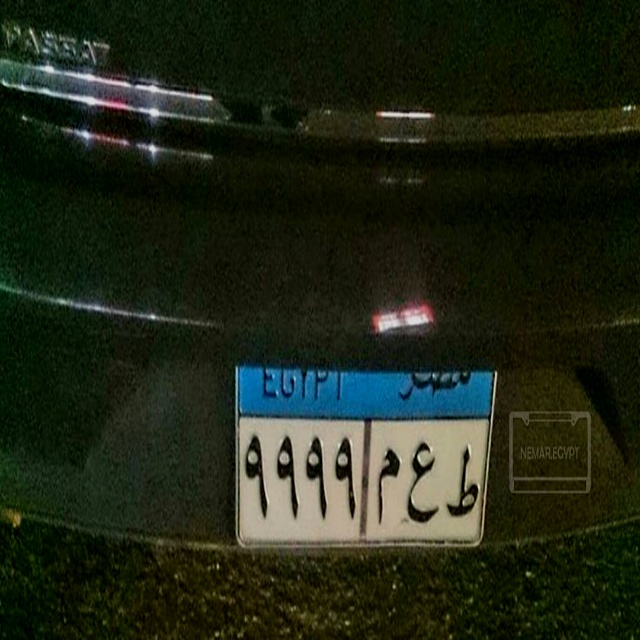License Plate: (226, 343, 500, 564)
